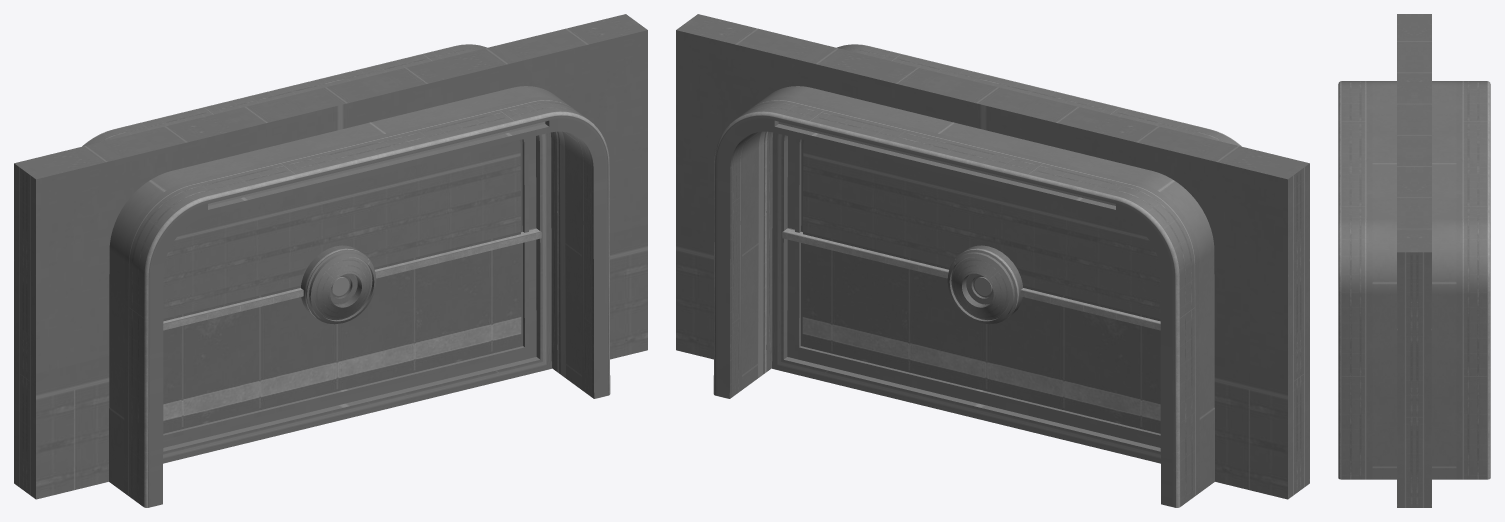
Rendered from SM_door_module.glb.
3 renders of one model, left to right at view 1: azimuth 30°, elevation 25°; view 2: azimuth 150°, elevation 25°; view 3: azimuth 270°, elevation 25°, orthographic. The views are drawn at different scales.
Parts seen in each view (by area): view 1: SM_door_module; view 2: SM_door_module; view 3: SM_door_module.
Part boxes in pixels (x1,y1,x2,y2): SM_door_module: (14,14,647,507); SM_door_module: (676,14,1309,507); SM_door_module: (1338,14,1490,507).
Bounding box in the file's own units: 8 × 4 × 2.16.
Materials: 1 (1 with a texture image).
